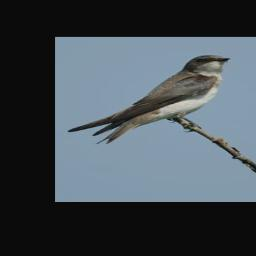Swallow: (68, 54, 232, 144)
